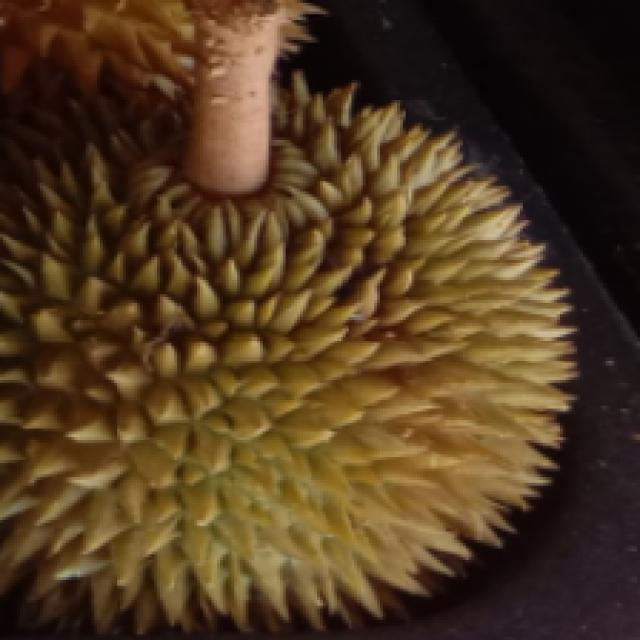d24: (7, 22, 585, 610)
